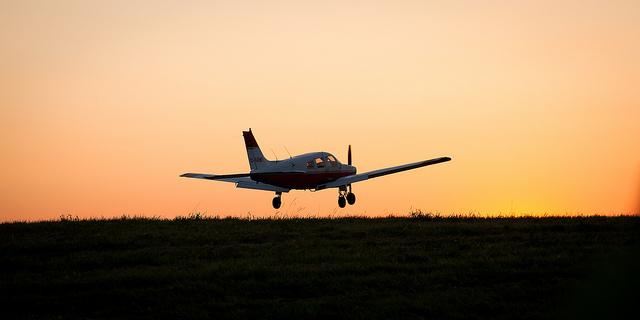airplane: (177, 128, 452, 210)
